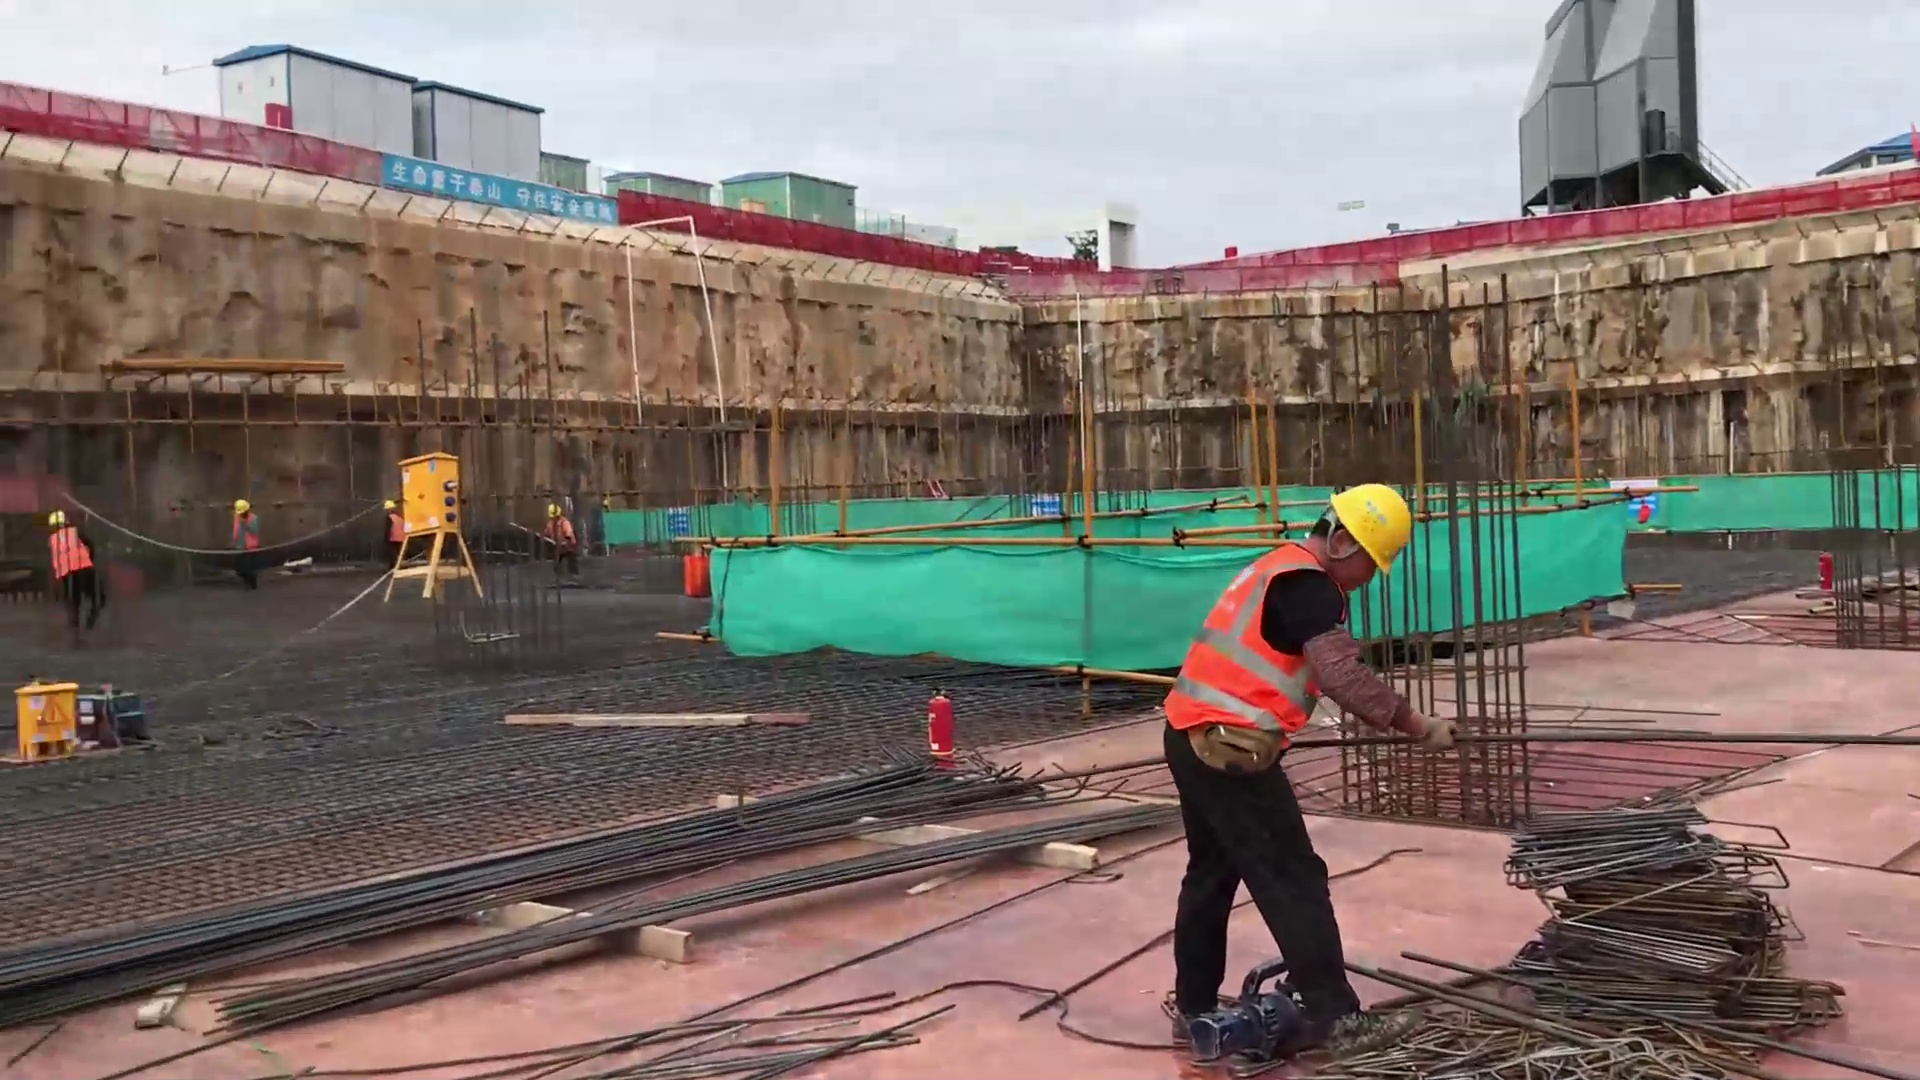ebox: (404, 452, 464, 546), (36, 677, 78, 782)
fence: (838, 252, 1288, 286), (1588, 186, 1918, 223)
helmet: (1331, 485, 1403, 553), (47, 512, 73, 531), (235, 499, 250, 515), (548, 503, 562, 520), (381, 497, 396, 510)
person: (1139, 486, 1404, 1033), (41, 510, 121, 625), (538, 495, 586, 571), (228, 500, 269, 588), (373, 505, 409, 566)
rebar: (304, 783, 913, 961)
slogan: (384, 156, 609, 221)
vest: (1171, 550, 1333, 728), (51, 533, 89, 581), (552, 522, 581, 558), (233, 515, 258, 553), (388, 516, 399, 546)
